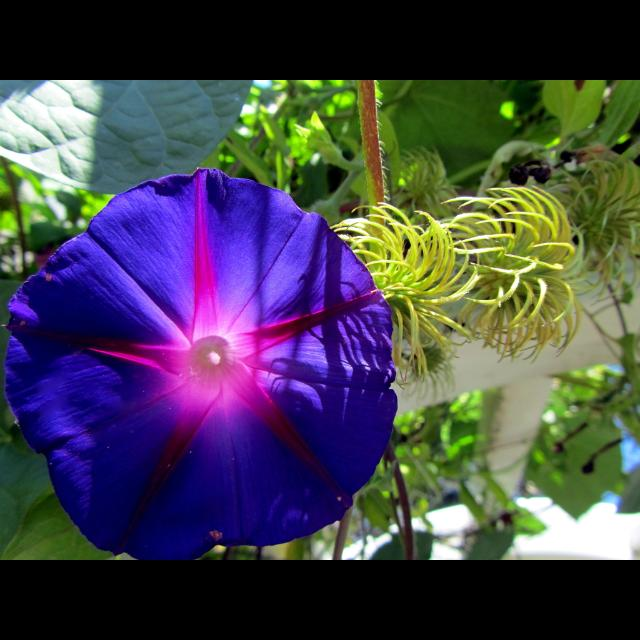Flower: (9, 175, 380, 560)
